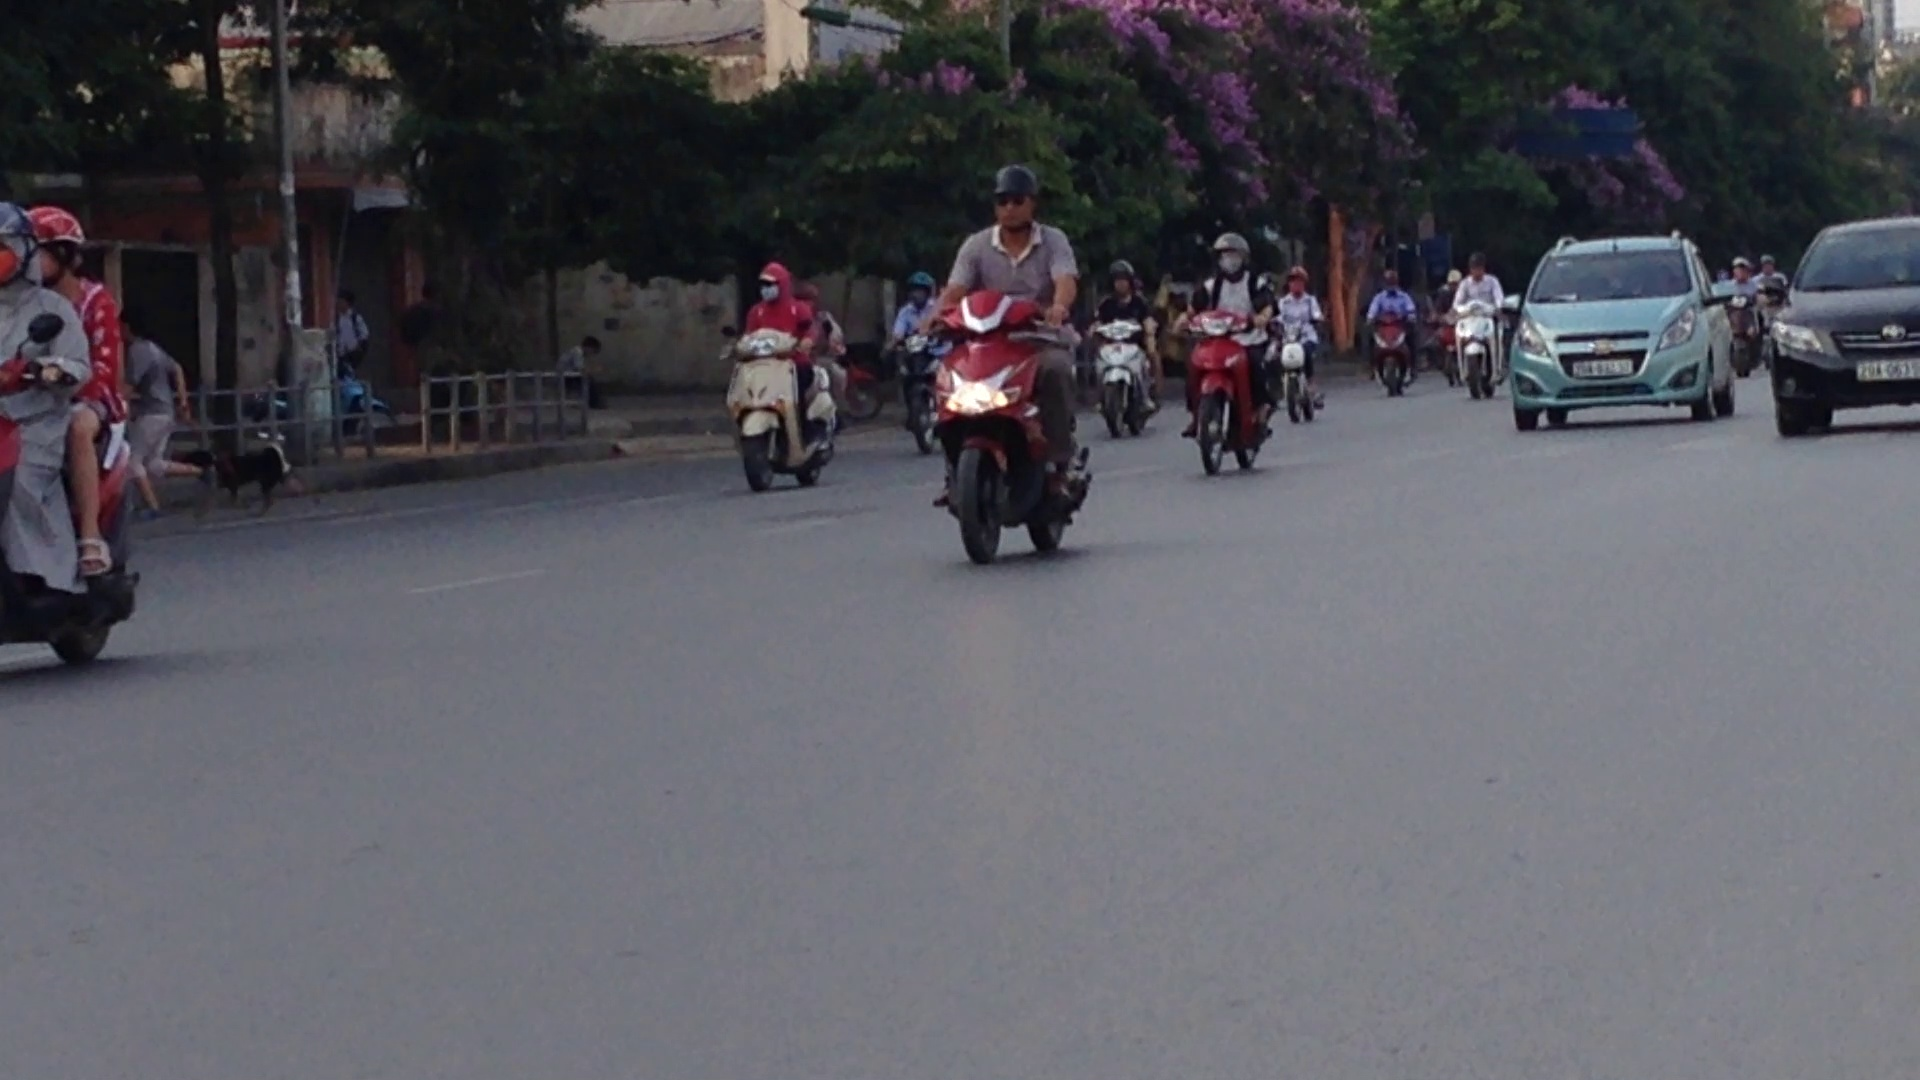vehicle-plate: (1565, 350, 1640, 386)
